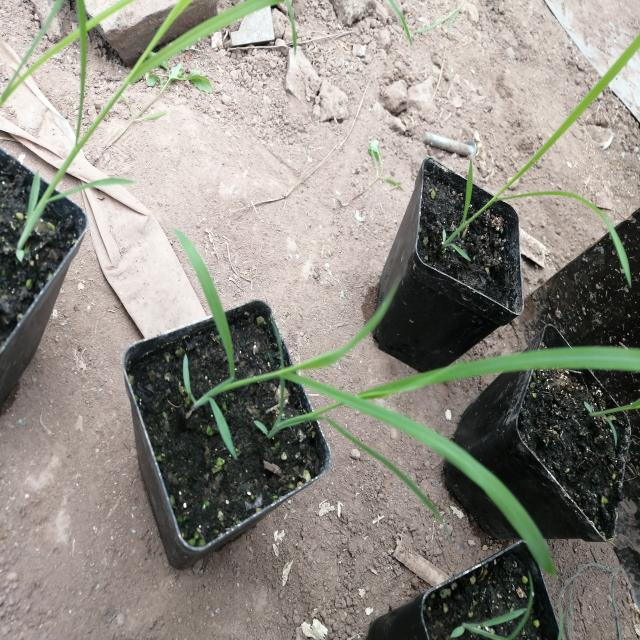crabgrass: (169, 273, 623, 506)
